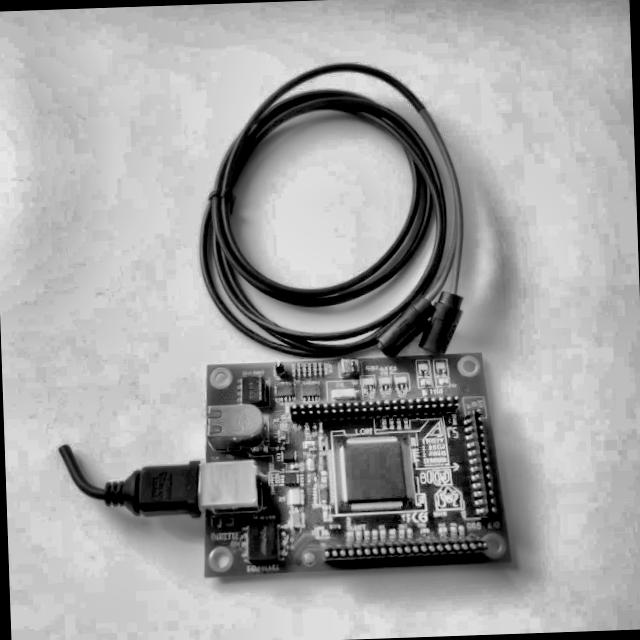Cable: (188, 48, 468, 360), (53, 432, 202, 532)
PCB: (200, 352, 508, 574)
